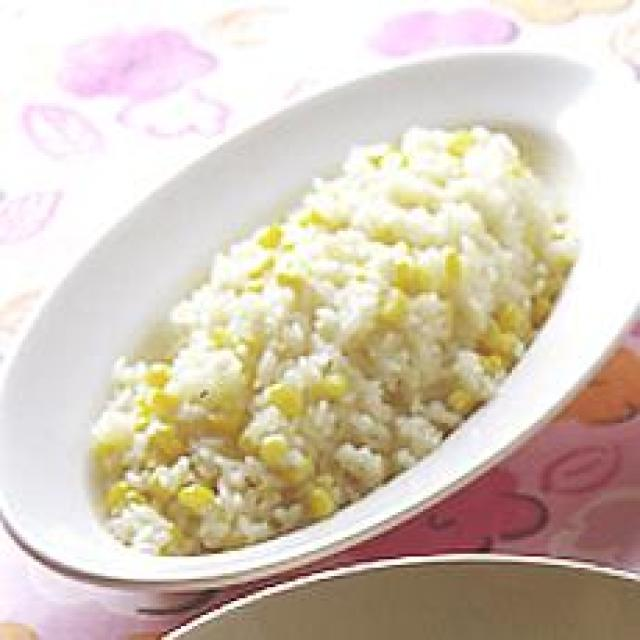米饭主食: (0, 39, 640, 576)
